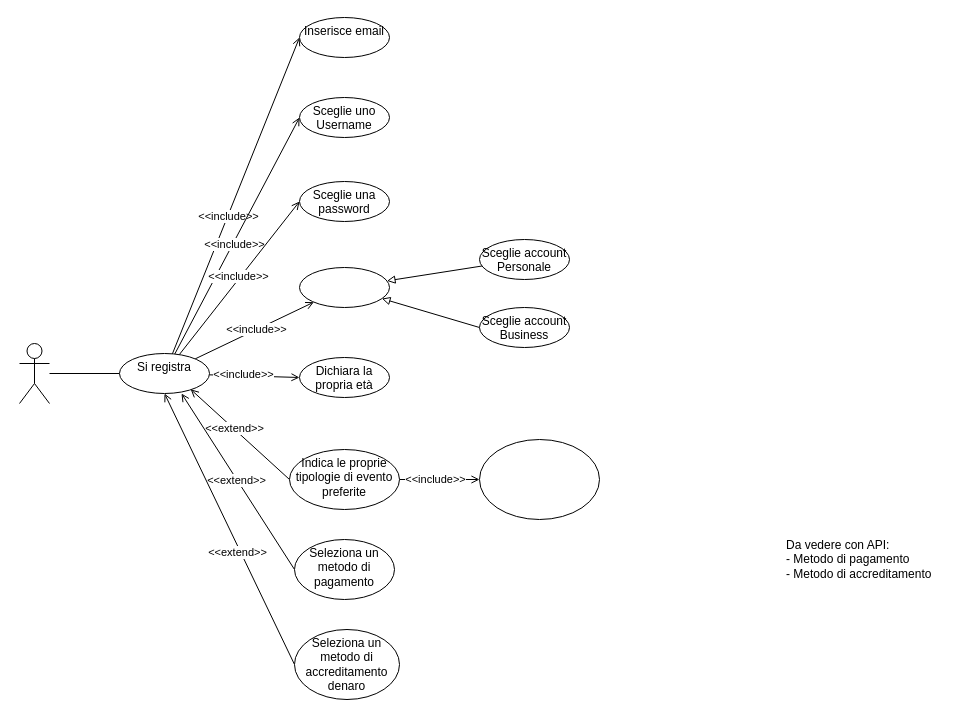
Some shapes in this 972 by 717 pixel diagram are drawn without their labels. The shapes that lost their labels are listed below. From the top down, each one's box as (x1, y1, x2, y2) in pixels, then its label:
(298, 266, 390, 308): Sceglie il tipo di account
(18, 342, 50, 404): Utente
(478, 438, 600, 520): Seleziona da un minimo di 1 a un massimo di 4 tipologie di evento
